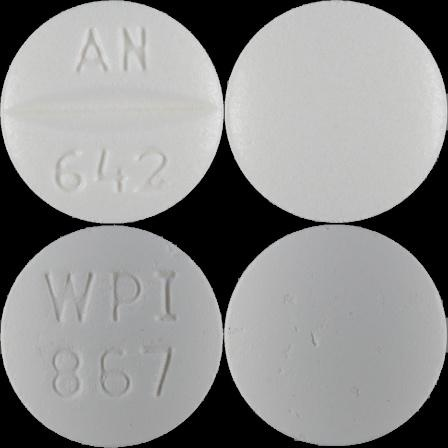50090-1133: (0, 0, 224, 224)
